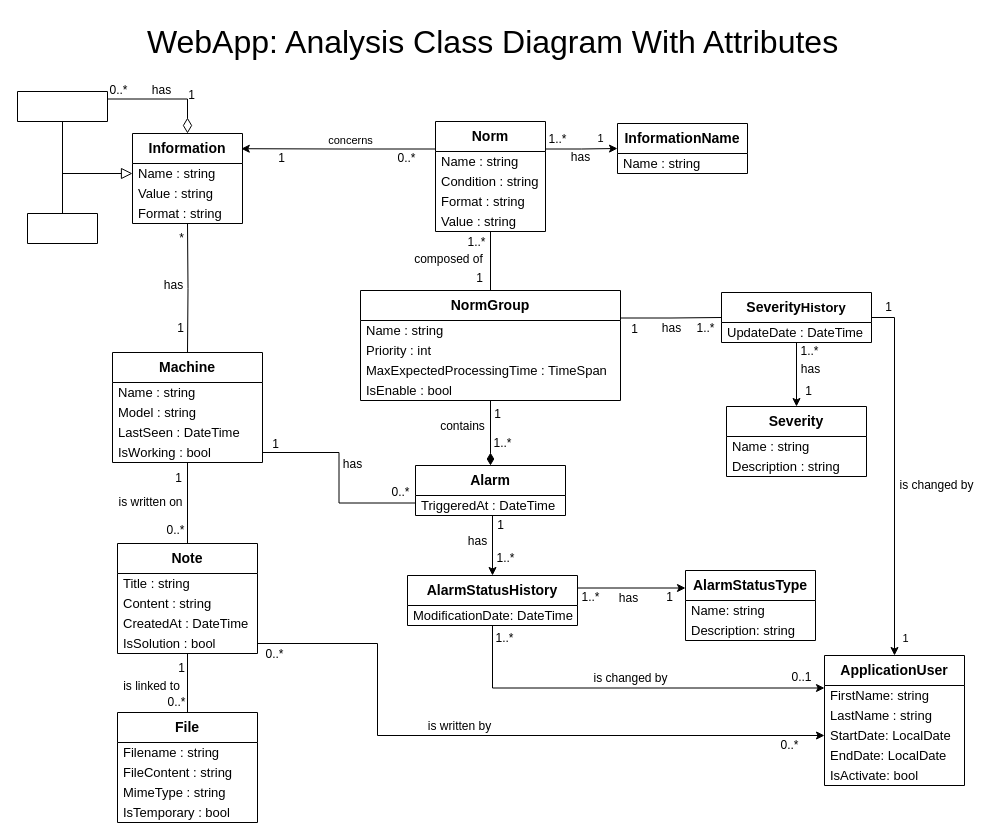
Some shapes in this 990 by 840 pixel diagram are drawn without their labels. The centre of each missing label's shape, as x and y in pixels:
Component: point 62,106
Value: point 62,228
